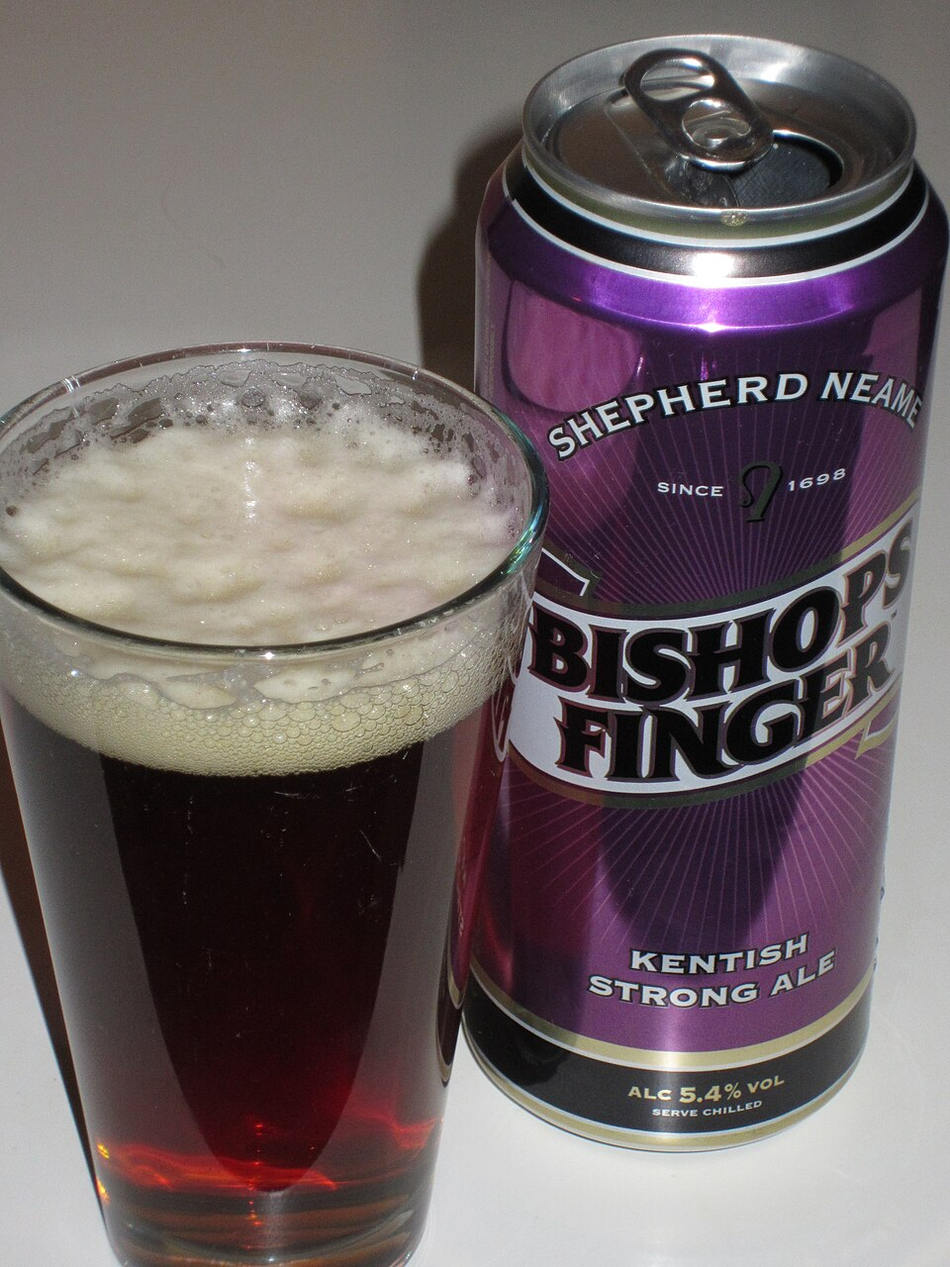beer-can: (434, 31, 950, 1106)
